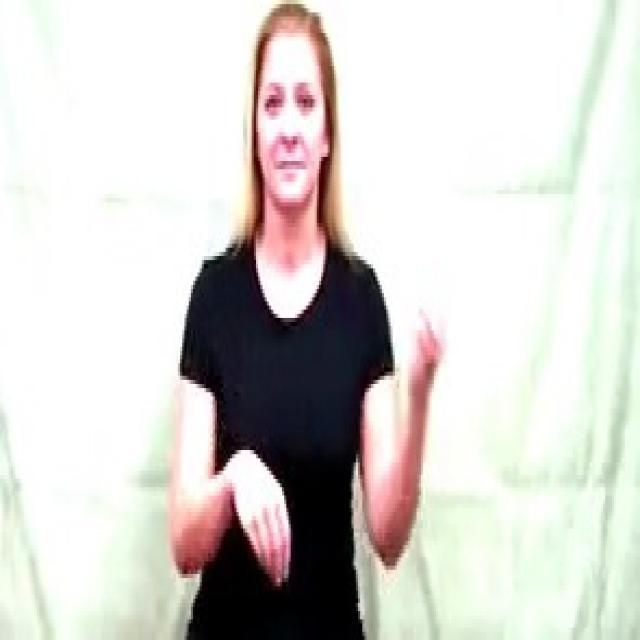ingredients: (228, 445, 298, 597)
